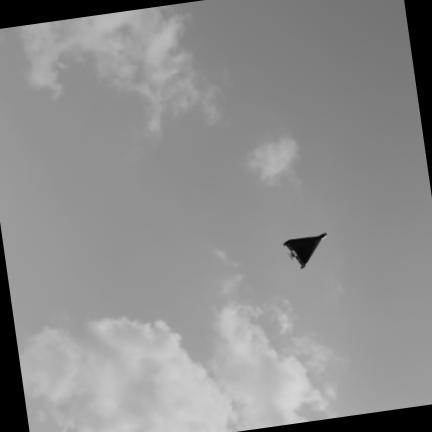Shahed: (283, 234, 325, 267)
